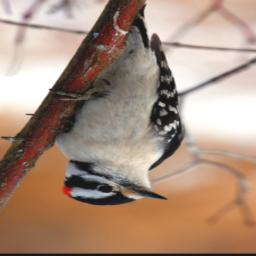Woodpecker: (46, 3, 184, 206)
